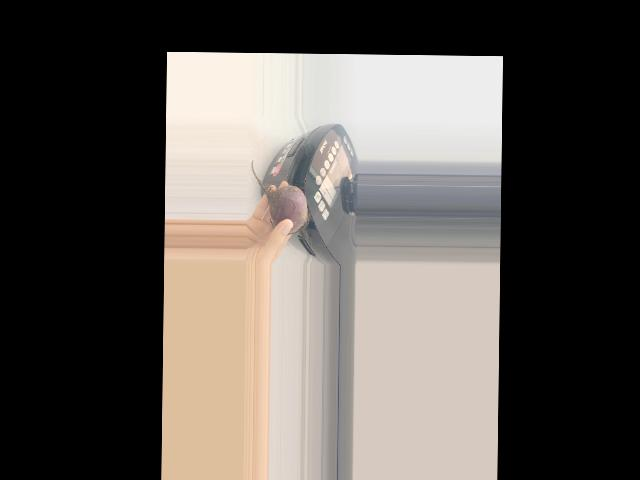beet: (250, 160, 310, 234)
